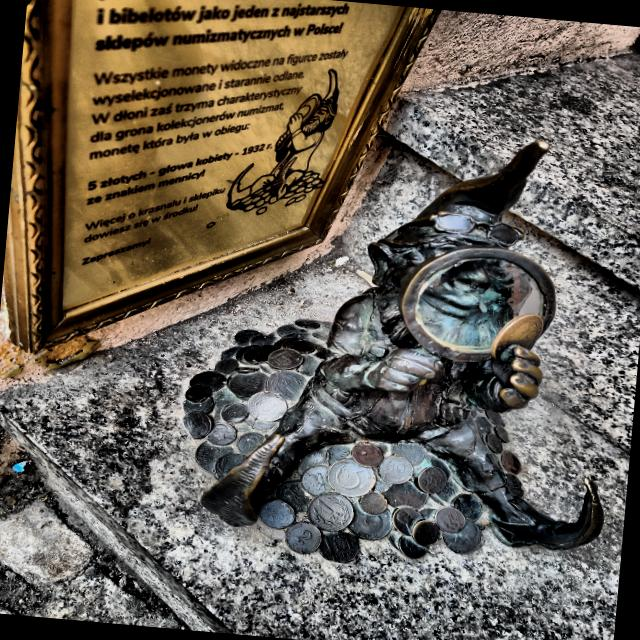Numizmatyk: (182, 141, 604, 563)
